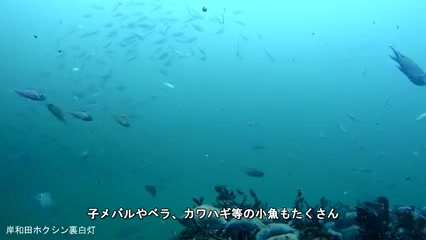smallfish: (10, 80, 52, 106), (43, 96, 76, 129)
